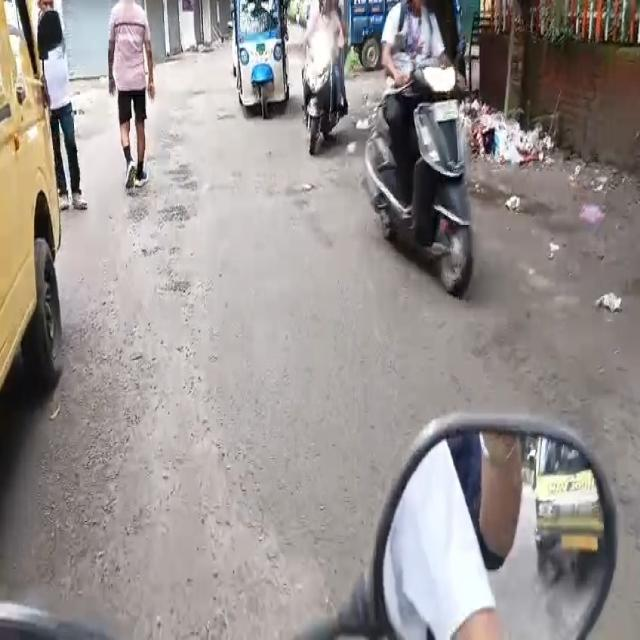road-pothole: (155, 201, 189, 232)
